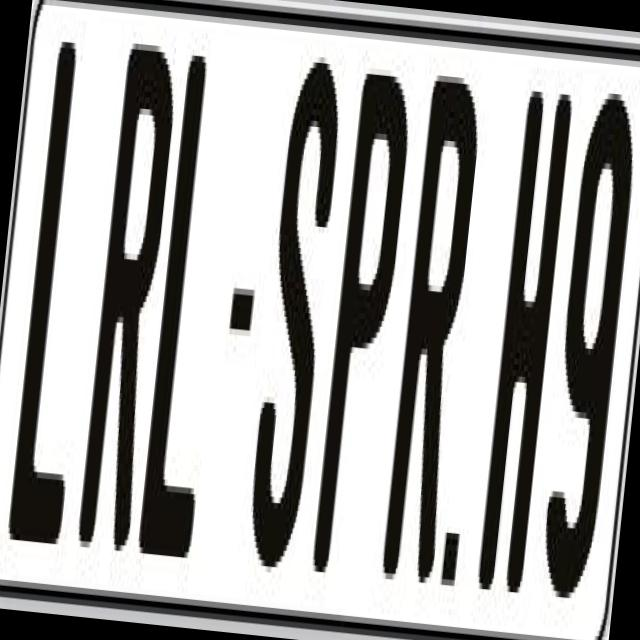9: (533, 73, 640, 600)
H: (475, 90, 575, 604)
L: (6, 29, 119, 550), (133, 42, 244, 564)
P: (313, 62, 421, 566)
R: (74, 31, 186, 552), (382, 57, 486, 572)
S: (239, 48, 348, 580)
